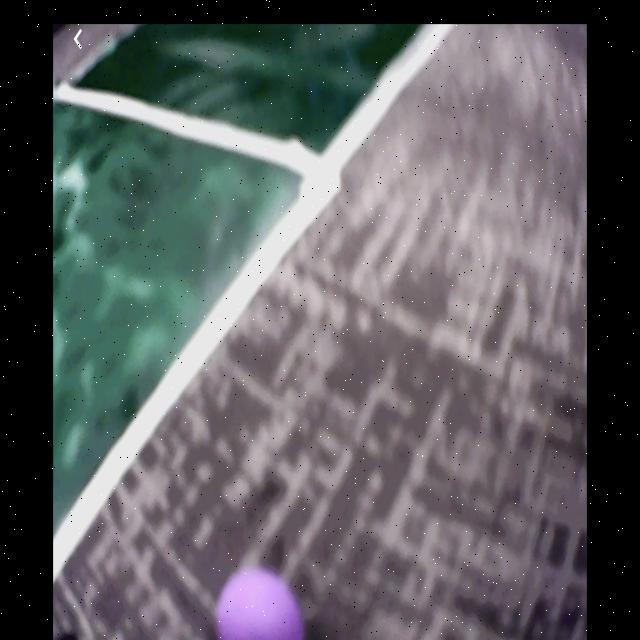ball: (214, 568, 311, 640)
